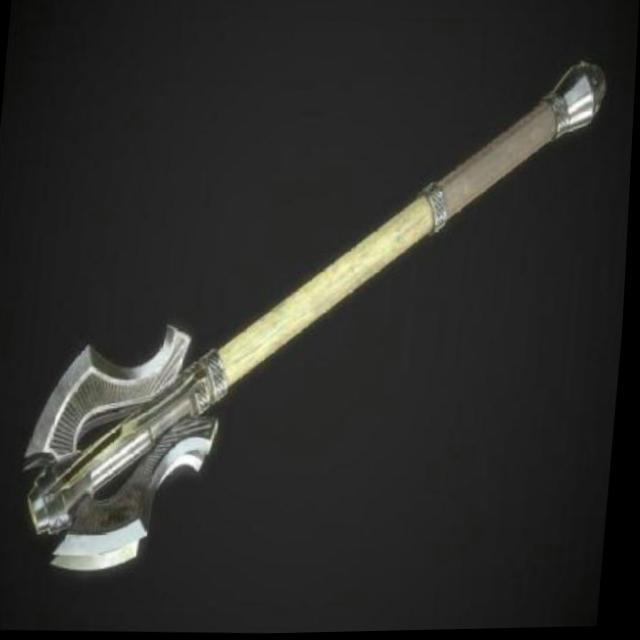weapon: (11, 44, 608, 594)
